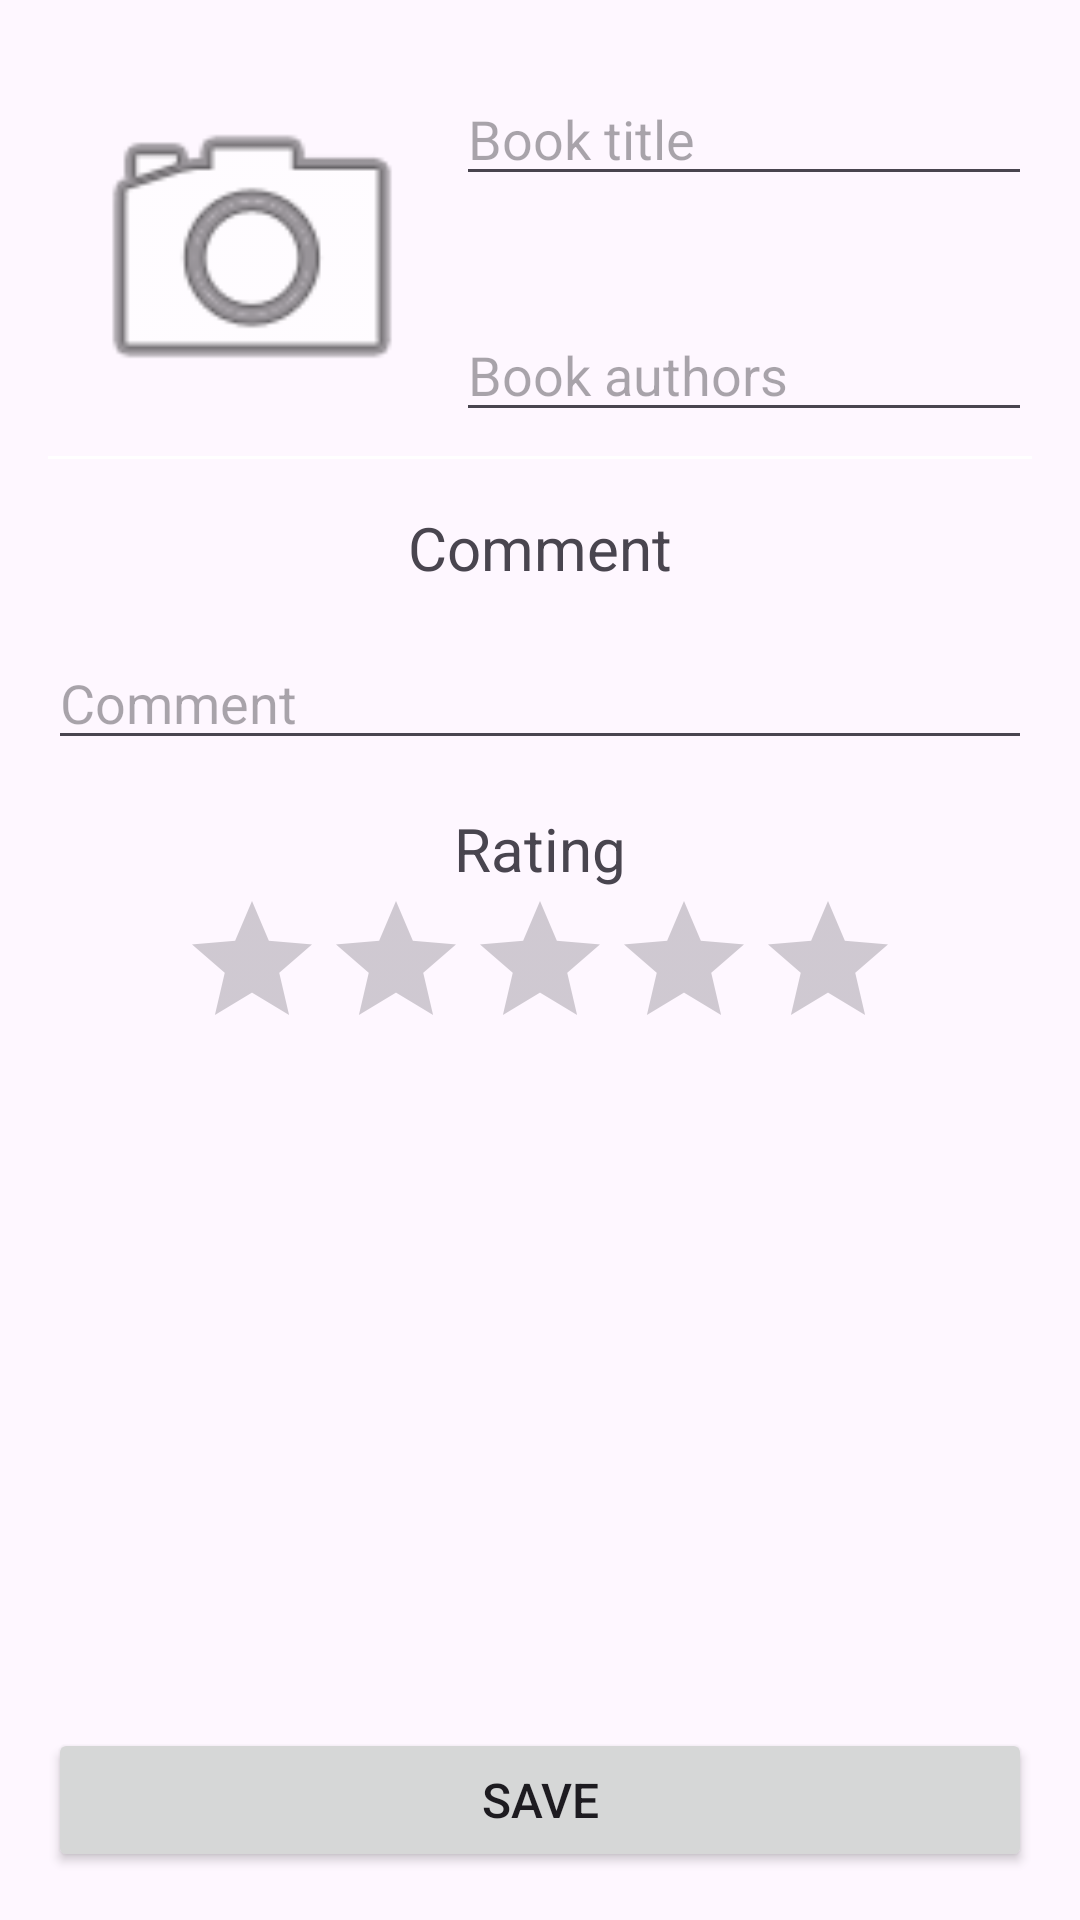

Point at icon controls on the screen. Image size 1080 x 1920, points as (x=x, y=y).
camera: (x=252, y=246)
